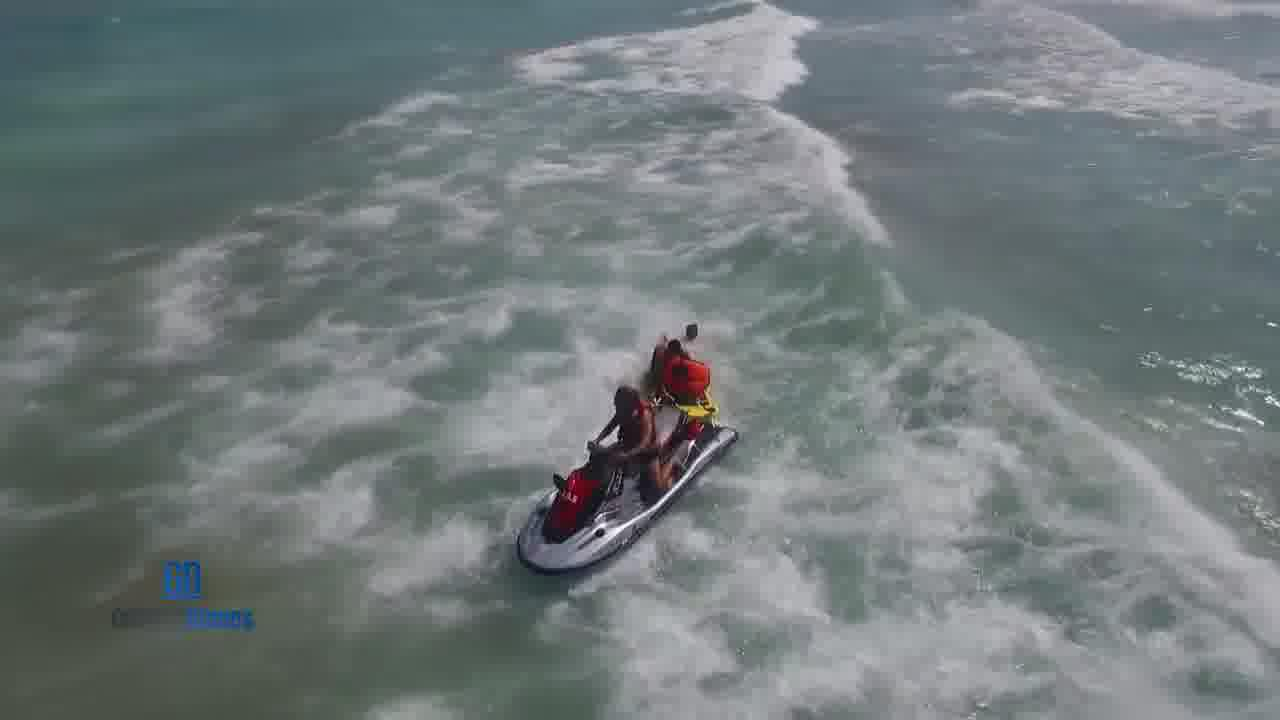human: (669, 310, 727, 344)
